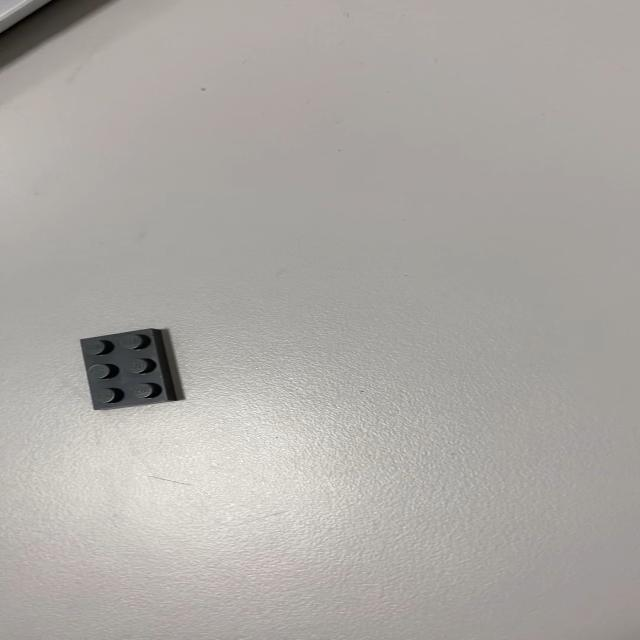C3x2x0: (78, 327, 180, 410)
